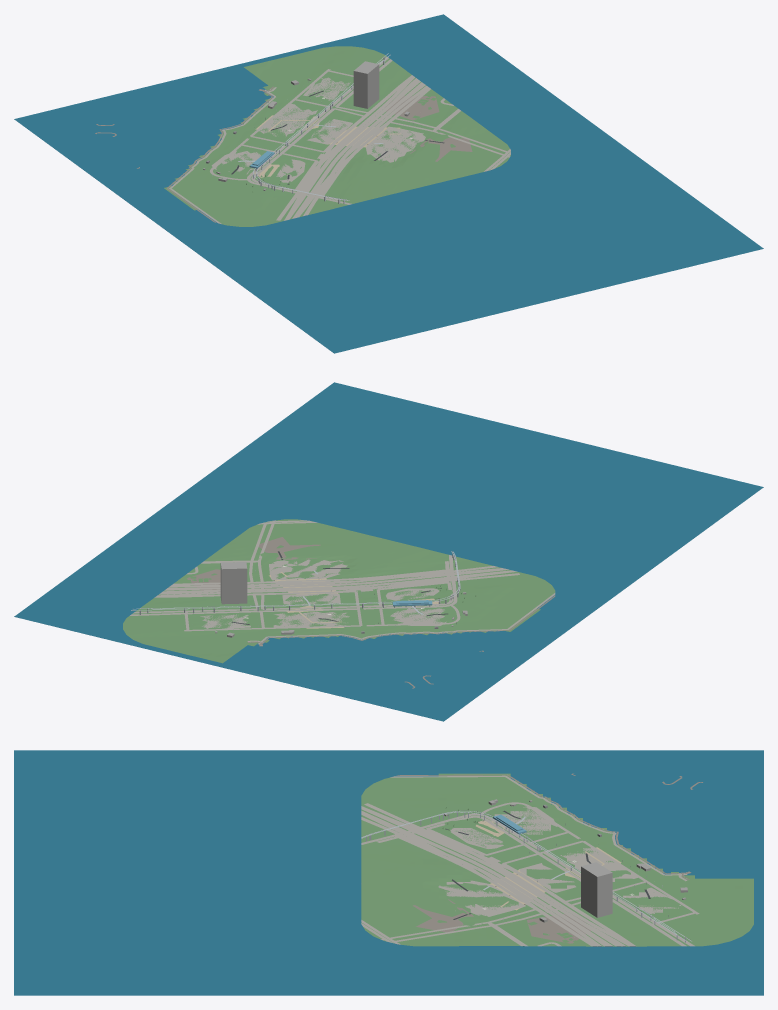
File: odaiba_district_v01_environment.glb
3 views of the same model, one above another, from view 1: azimuth 30°, elevation 25°; view 2: azimuth 150°, elevation 25°; view 3: azimuth 270°, elevation 25° (orthographic). The views are drawn at different scales.
Parts seen in each view (by area): view 1: WATER_MAIN, TERRAIN_LOW_DENSITY, SIDEWALK_NETWORK, BUILDING_PADS, PHASE03C_LANDSCAPE, CTX_north_east_unknown, PHASE03C_SERVICE_AREA; view 2: WATER_MAIN, TERRAIN_LOW_DENSITY, SIDEWALK_NETWORK, BUILDING_PADS, PHASE03C_LANDSCAPE, CTX_north_east_unknown, PHASE03C_SERVICE_AREA, WATERFRONT_PROMENADE, YURIKAMOME_GUIDEWAY; view 3: WATER_MAIN, TERRAIN_LOW_DENSITY, SIDEWALK_NETWORK, PHASE03C_LANDSCAPE, BUILDING_PADS, CTX_north_east_unknown, PHASE03C_SERVICE_AREA, WATERFRONT_PROMENADE, YURIKAMOME_GUIDEWAY, COAST_REVETMENT, PHASE03C_PLAZA.
Boxes of the visible parts, left/top/right/bottom form: WATER_MAIN: left=14, top=14, right=763, bottom=353; TERRAIN_LOW_DENSITY: left=164, top=46, right=510, bottom=226; SIDEWALK_NETWORK: left=210, top=56, right=510, bottom=220; BUILDING_PADS: left=211, top=77, right=425, bottom=182; PHASE03C_LANDSCAPE: left=238, top=150, right=502, bottom=199; CTX_north_east_unknown: left=291, top=61, right=409, bottom=116; PHASE03C_SERVICE_AREA: left=382, top=95, right=472, bottom=187; WATER_MAIN: left=14, top=382, right=763, bottom=721; TERRAIN_LOW_DENSITY: left=123, top=519, right=555, bottom=663; SIDEWALK_NETWORK: left=130, top=520, right=519, bottom=631; BUILDING_PADS: left=200, top=559, right=446, bottom=628; PHASE03C_LANDSCAPE: left=274, top=519, right=483, bottom=604; CTX_north_east_unknown: left=215, top=562, right=247, bottom=637; PHASE03C_SERVICE_AREA: left=187, top=537, right=381, bottom=592; WATERFRONT_PROMENADE: left=247, top=593, right=555, bottom=645; YURIKAMOME_GUIDEWAY: left=131, top=551, right=460, bottom=610; WATER_MAIN: left=14, top=750, right=763, bottom=995; TERRAIN_LOW_DENSITY: left=361, top=773, right=753, bottom=946; SIDEWALK_NETWORK: left=361, top=802, right=699, bottom=946; PHASE03C_LANDSCAPE: left=361, top=804, right=483, bottom=936; BUILDING_PADS: left=438, top=806, right=680, bottom=916; CTX_north_east_unknown: left=539, top=862, right=687, bottom=922; PHASE03C_SERVICE_AREA: left=361, top=883, right=590, bottom=943; WATERFRONT_PROMENADE: left=390, top=775, right=689, bottom=881; YURIKAMOME_GUIDEWAY: left=361, top=811, right=691, bottom=941; COAST_REVETMENT: left=396, top=773, right=702, bottom=880; PHASE03C_PLAZA: left=476, top=820, right=621, bottom=910.
Size of the model in its own units: 1450 by 114 by 1872.
